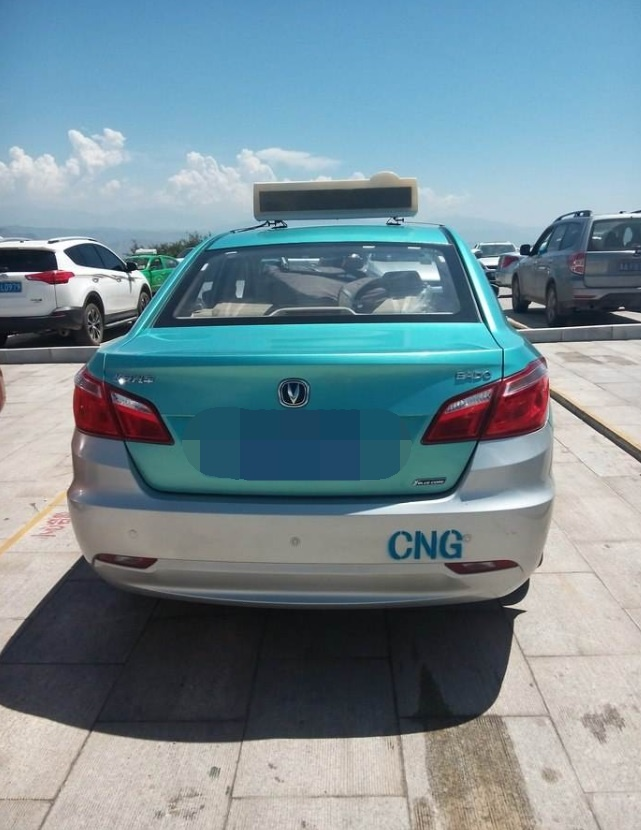SUV: (4, 224, 154, 335), (520, 202, 641, 319)
taxi: (70, 226, 549, 627)
